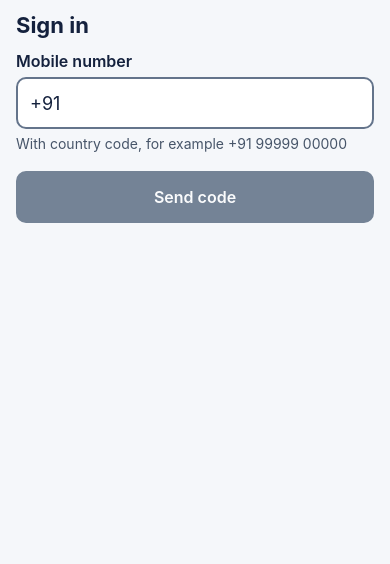
Test case: sign-in › a wrong code gives ONE generic message (no hint whether the number is registered)
Replace the text in the field with test id "input-phone" with "+919999901202": [195, 103] box [16, 77, 374, 129]
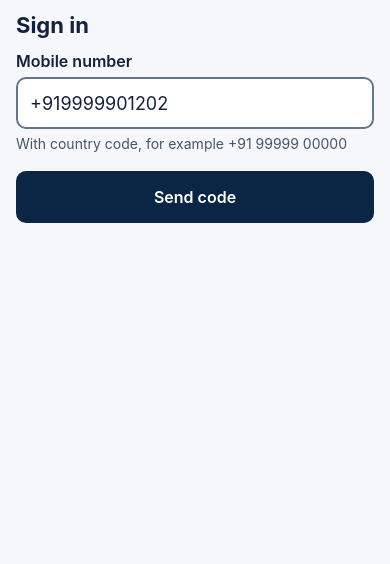
Click the button "Send code": [195, 197] box [16, 171, 374, 223]
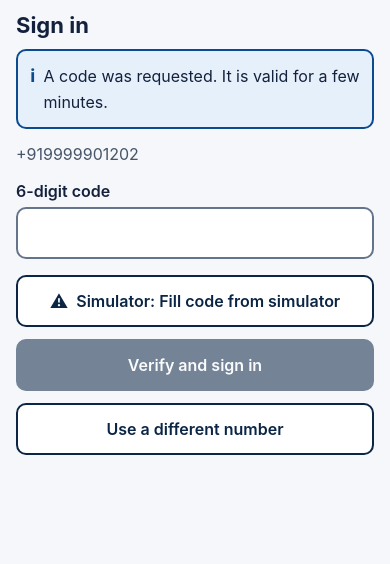
In the field with test id "input-code": [195, 233] box [16, 207, 374, 259], type "000000"
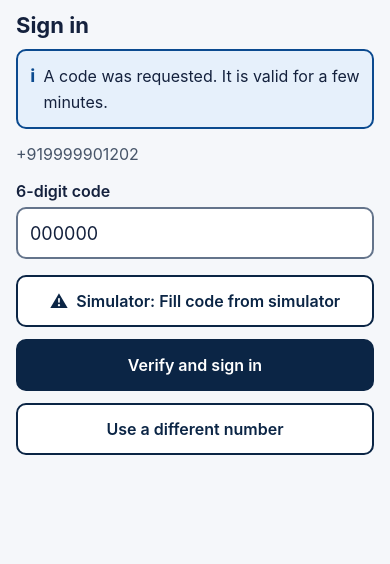
Click the button "Verify and sign in": [195, 365] box [16, 339, 374, 391]
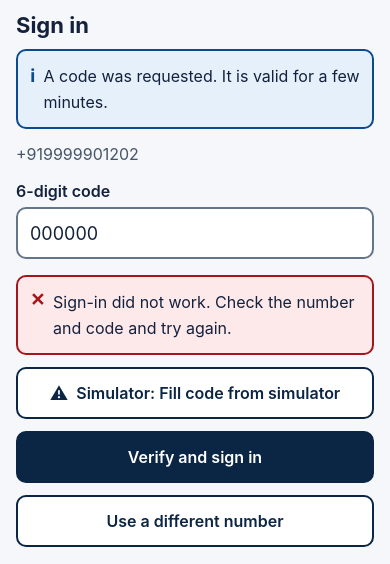
Result: the text "Sign-in did not work. Check the number and code and try again." is shown at [53, 289, 360, 341]
